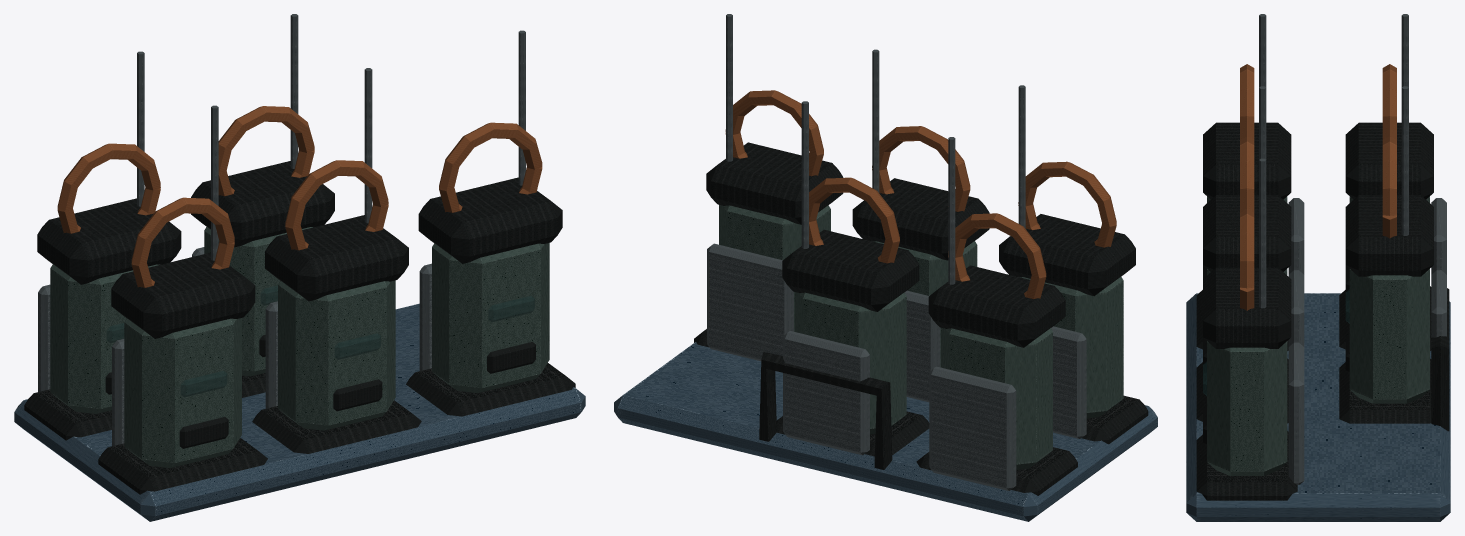
The model's file is blender_emf_array_3.glb.
The picture shows the model from 3 angles, left to right: view 1: azimuth 30°, elevation 25°; view 2: azimuth 150°, elevation 25°; view 3: azimuth 270°, elevation 25°; orthographic projection. The views are drawn at different scales.
Parts seen in each view (by area): view 1: blender_emf_array_3; view 2: blender_emf_array_3; view 3: blender_emf_array_3.
Boxes of the visible parts, left/top/right/bottom form: blender_emf_array_3: left=14, top=14, right=585, bottom=521; blender_emf_array_3: left=614, top=14, right=1157, bottom=521; blender_emf_array_3: left=1186, top=14, right=1450, bottom=521.
Bounding box in the file's own units: 0.191 × 0.15 × 0.102.
Materials: 6 (6 with a texture image).
